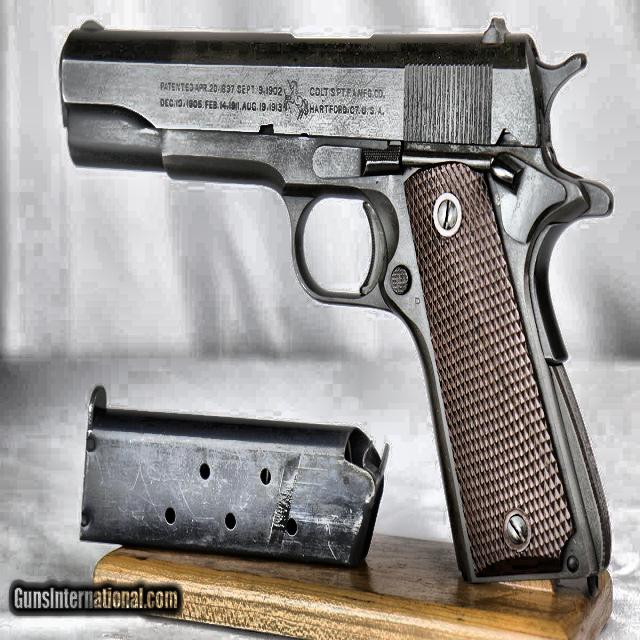Colt m1911: (58, 16, 615, 601)
